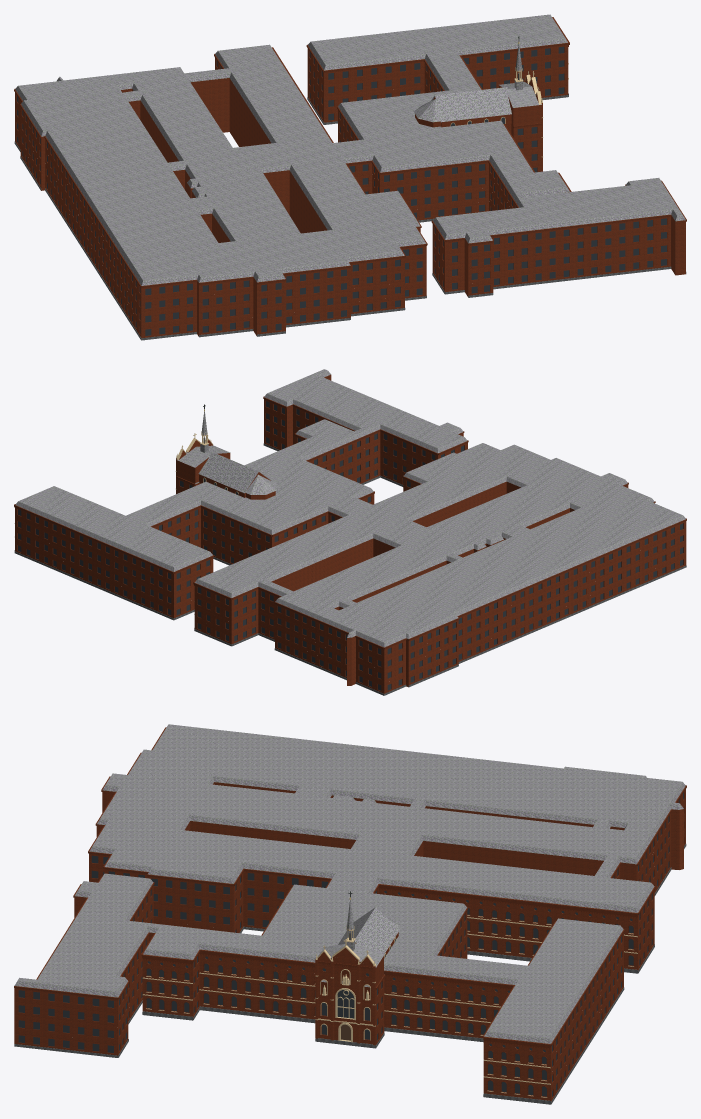
3 views of the same model, one above another, from view 1: azimuth 30°, elevation 25°; view 2: azimuth 150°, elevation 25°; view 3: azimuth 270°, elevation 25° (orthographic). The views are drawn at different scales.
Parts seen in each view (by area): view 1: bldg_7345816_landmark; view 2: bldg_7345816_landmark; view 3: bldg_7345816_landmark.
Part boxes in pixels (bbox=[...]): bldg_7345816_landmark: bbox=[14, 14, 686, 340]; bldg_7345816_landmark: bbox=[14, 369, 686, 695]; bldg_7345816_landmark: bbox=[14, 724, 686, 1104].
Bounding box in the file's own units: 172 × 36.9 × 154.
10 materials, 5 textured.
